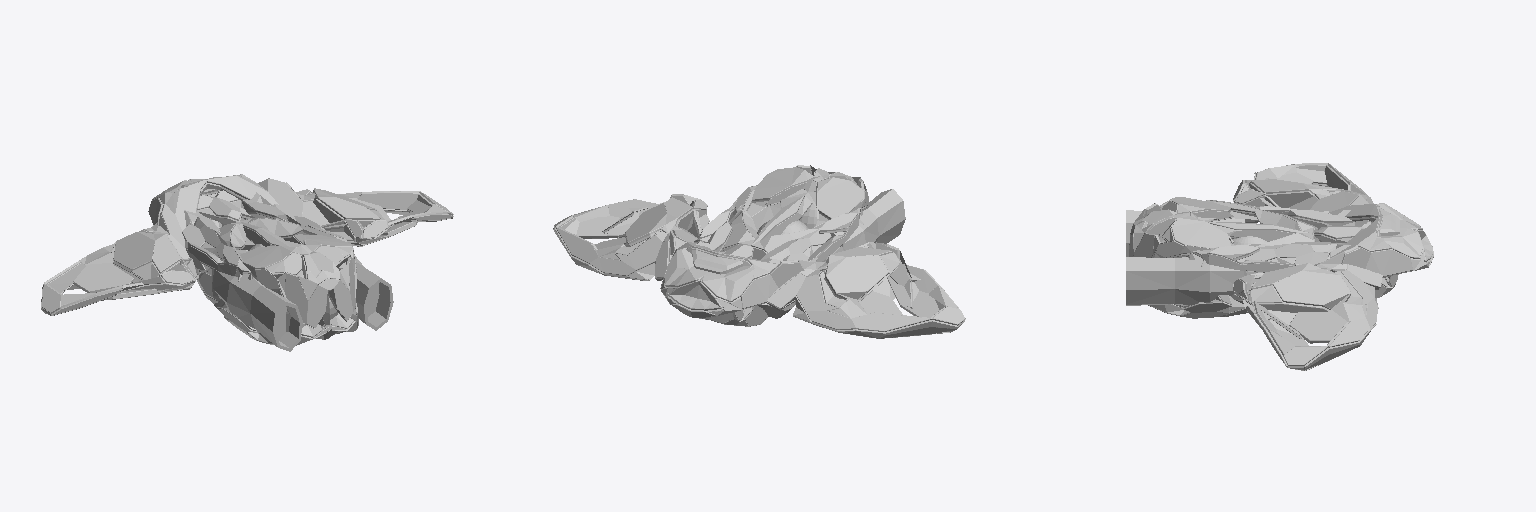
The model's file is spaceship_02.obj.
3 views of the same model, side by side, from view 1: azimuth 30°, elevation 25°; view 2: azimuth 150°, elevation 25°; view 3: azimuth 270°, elevation 25° (orthographic).
Parts seen in each view (by area): view 1: Cube.019_Cube.053; view 2: Cube.019_Cube.053; view 3: Cube.019_Cube.053.
Part boxes in pixels (x1,y1,x2,y2): Cube.019_Cube.053: (41,174,453,351); Cube.019_Cube.053: (553,165,965,338); Cube.019_Cube.053: (1126,163,1433,370).
Bounding box in the file's own units: 9.2 × 1.96 × 6.08.